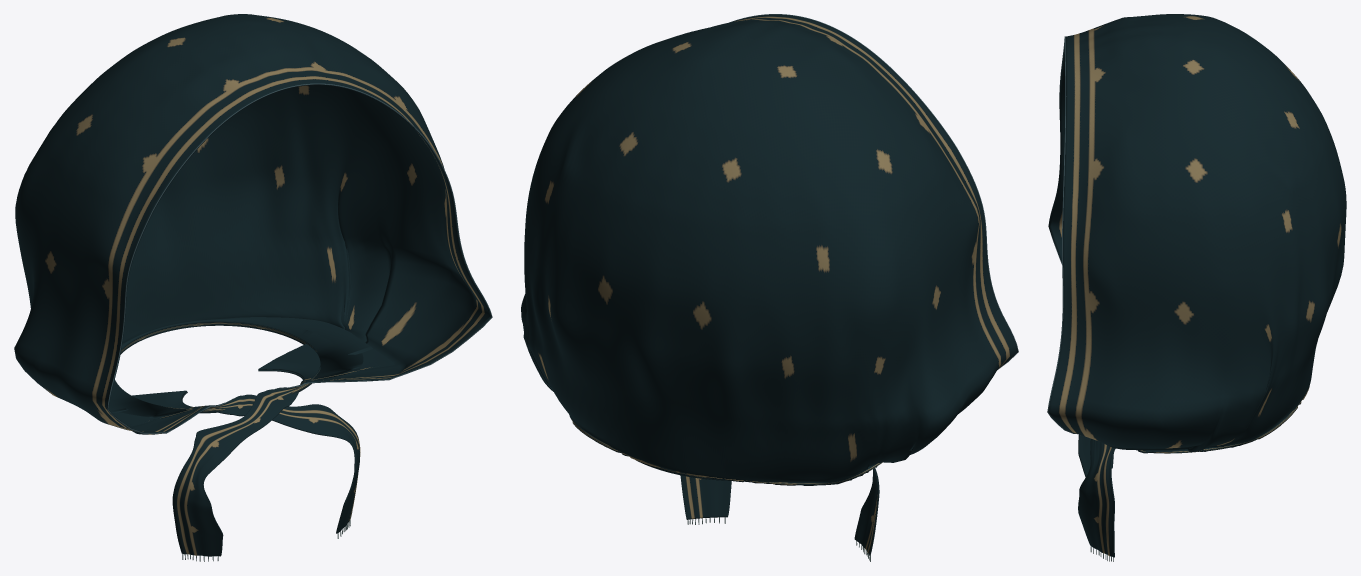
The model's file is Feminine-side-sweep-jersey-pashmina249-headgear.glb.
3 views of the same model, side by side, from view 1: azimuth 30°, elevation 25°; view 2: azimuth 150°, elevation 25°; view 3: azimuth 270°, elevation 25° (orthographic). The views are drawn at different scales.
Visible parts, largest first — view 1: 226 headgear / Headwear / continuous woven pashmina239, 226 headgear / Headwear / face edge239; view 2: 226 headgear / Headwear / continuous woven pashmina239, 226 headgear / Headwear / face edge239; view 3: 226 headgear / Headwear / continuous woven pashmina239, 226 headgear / Headwear / face edge239.
Boxes of the visible parts, box(x1,y1,x2,y2) form: 226 headgear / Headwear / continuous woven pashmina239: box(14, 14, 491, 556); 226 headgear / Headwear / face edge239: box(107, 83, 492, 433); 226 headgear / Headwear / continuous woven pashmina239: box(521, 14, 1018, 555); 226 headgear / Headwear / face edge239: box(729, 14, 1018, 369); 226 headgear / Headwear / continuous woven pashmina239: box(1048, 14, 1346, 557); 226 headgear / Headwear / face edge239: box(1047, 36, 1075, 433).
Bounding box in the file's own units: 1.23 × 1.41 × 0.7772.
3 materials, 1 textured.
